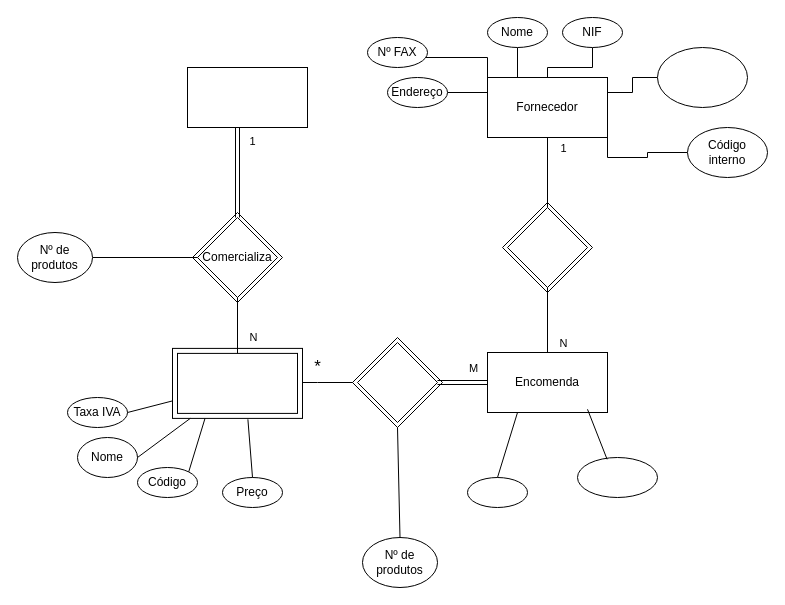
This 785x605 diagram has some shape labels left out. The shapes that lost their labels are listed below. From the top down, each one's centre as x and y in pixels, then its label:
At (247,97): "Empresa".
At (702,77): "Condições de pagamento".
At (547,247): "Realiza".
At (237,382): "Produto".
At (397,382): "Contém".
At (497,492): "ID".
At (617,477): "Data de realização".
